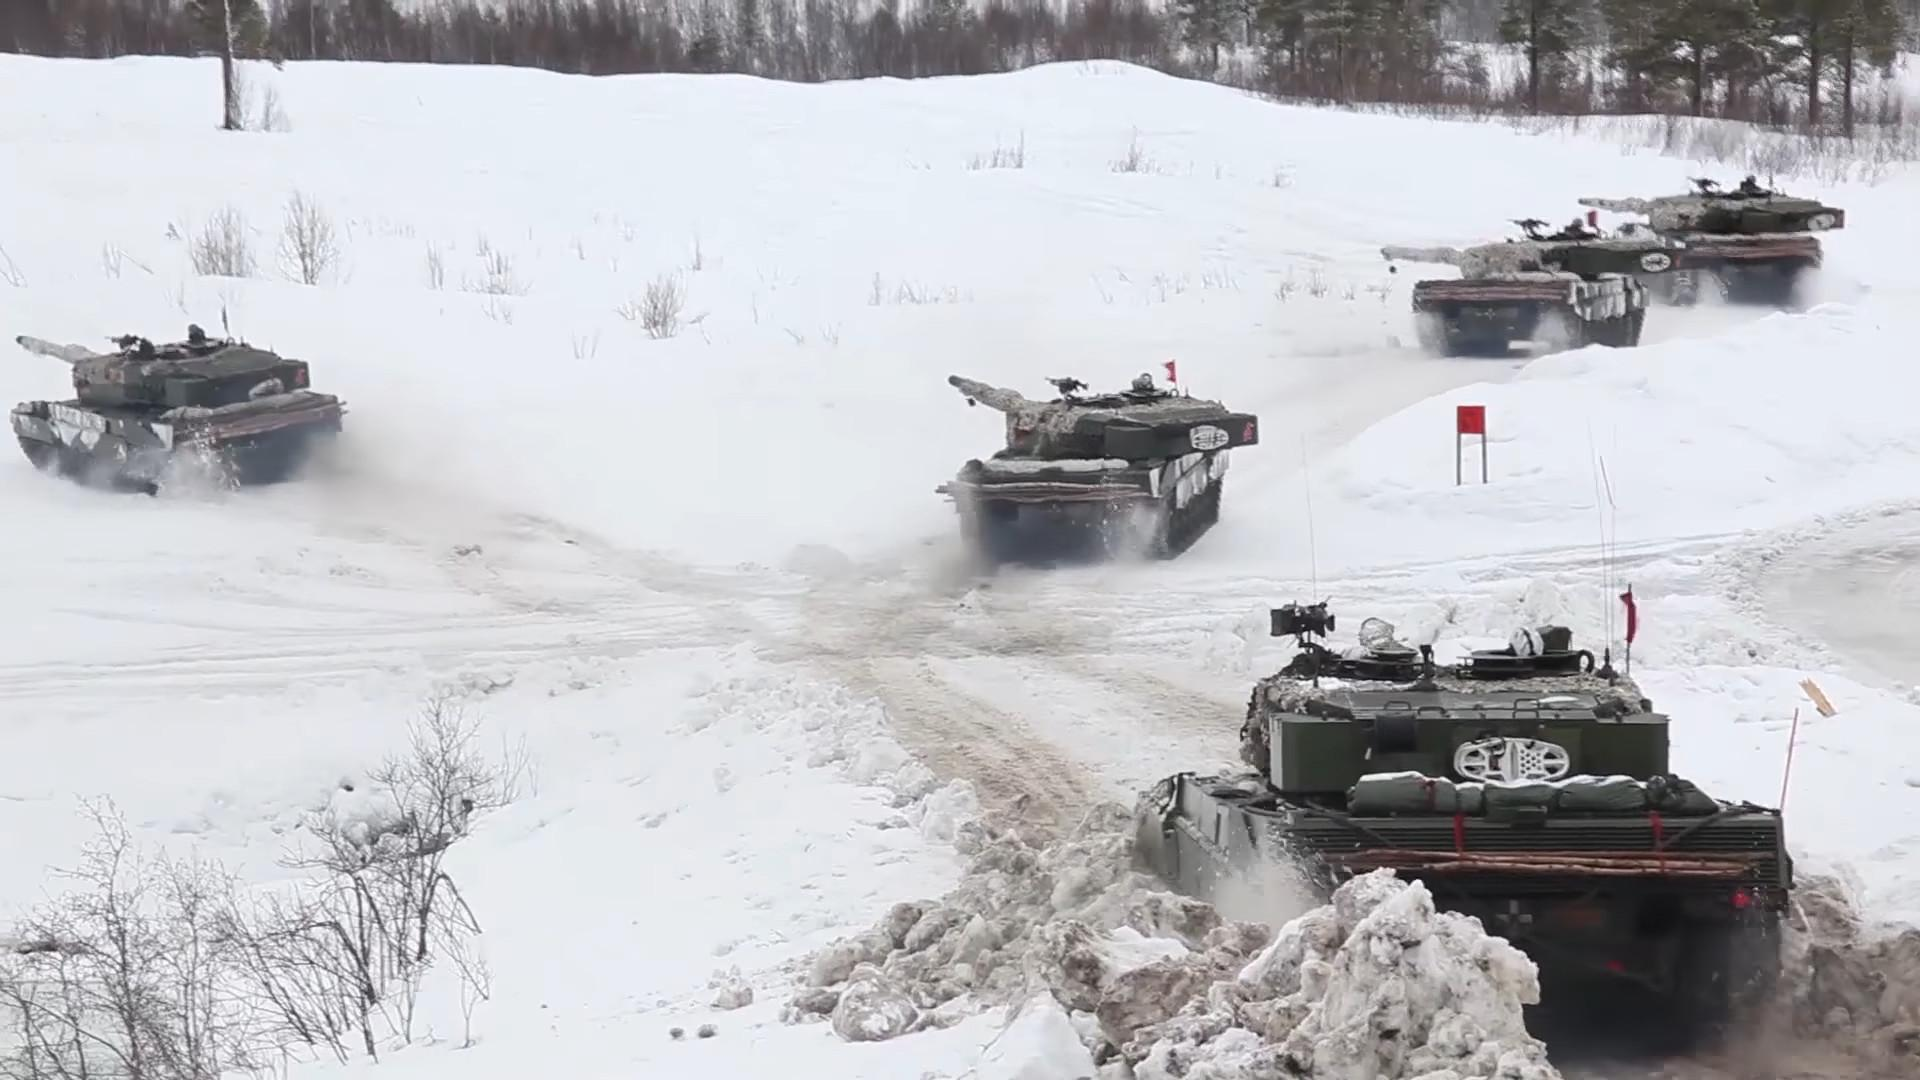tank: (1139, 622, 1796, 1044), (944, 376, 1255, 558), (11, 335, 342, 488), (1379, 223, 1675, 355), (1577, 191, 1844, 302)
